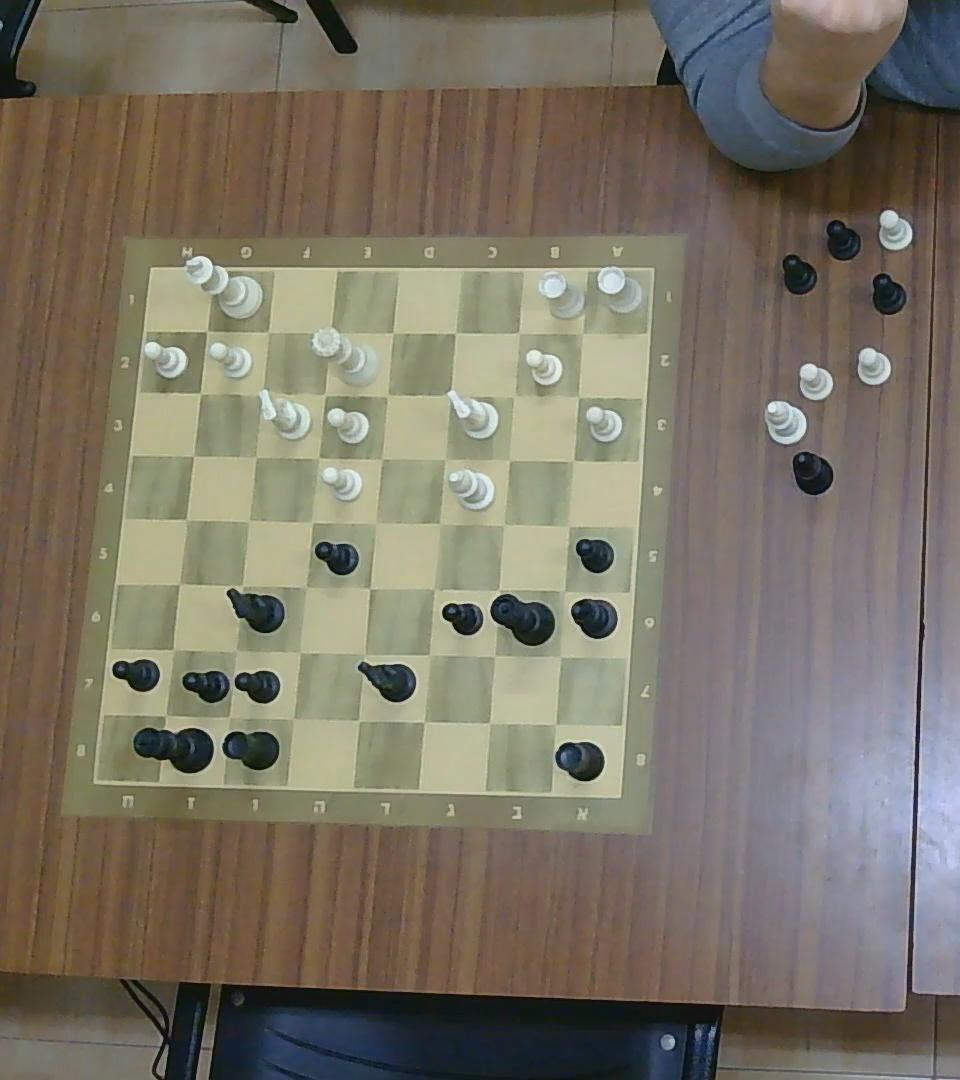xcorner: (215, 703, 241, 730), (280, 705, 305, 732), (153, 701, 179, 726), (477, 709, 502, 734), (160, 637, 185, 662), (346, 707, 370, 733), (412, 709, 436, 734), (549, 644, 573, 668), (288, 640, 311, 665), (482, 642, 505, 667), (543, 712, 568, 735), (167, 572, 191, 595), (318, 320, 341, 344), (427, 511, 450, 534), (419, 643, 442, 666), (352, 641, 375, 664), (175, 507, 197, 531), (196, 318, 218, 342), (230, 573, 252, 597), (363, 511, 385, 534), (238, 508, 260, 531), (224, 638, 246, 661), (438, 383, 460, 406), (487, 577, 510, 599), (245, 444, 267, 466), (422, 577, 444, 599), (493, 512, 513, 536), (301, 509, 321, 533), (563, 449, 584, 471), (568, 384, 590, 405), (251, 382, 272, 404), (182, 445, 204, 465), (558, 513, 578, 535), (360, 576, 380, 598), (295, 576, 315, 598), (376, 383, 396, 405), (445, 321, 465, 343), (383, 321, 403, 343), (434, 448, 454, 469), (498, 448, 518, 469), (370, 448, 390, 469), (258, 320, 278, 341), (189, 382, 209, 403), (504, 386, 524, 406), (315, 384, 334, 405), (308, 447, 327, 467), (554, 580, 573, 600), (510, 322, 529, 342), (573, 322, 592, 342)
